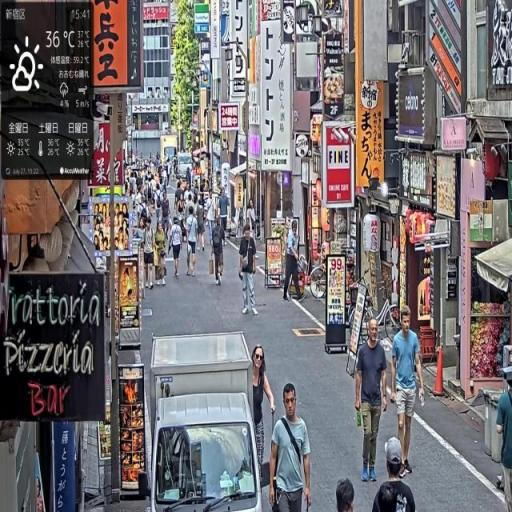person: (391, 307, 425, 479), (270, 384, 311, 512), (356, 319, 388, 483), (373, 438, 416, 512), (253, 346, 276, 478), (497, 367, 512, 512), (284, 220, 305, 303), (241, 226, 260, 316), (144, 219, 157, 290), (169, 218, 183, 279), (187, 207, 199, 277), (213, 218, 225, 287), (156, 223, 168, 287), (219, 188, 231, 246), (377, 483, 398, 512), (337, 479, 355, 512), (206, 192, 216, 245), (198, 200, 206, 252), (163, 192, 172, 237), (247, 200, 257, 239), (154, 185, 164, 223), (140, 197, 152, 224), (175, 180, 185, 212), (186, 192, 197, 216), (136, 219, 147, 241), (173, 155, 179, 177), (163, 166, 168, 192), (187, 168, 193, 187)
